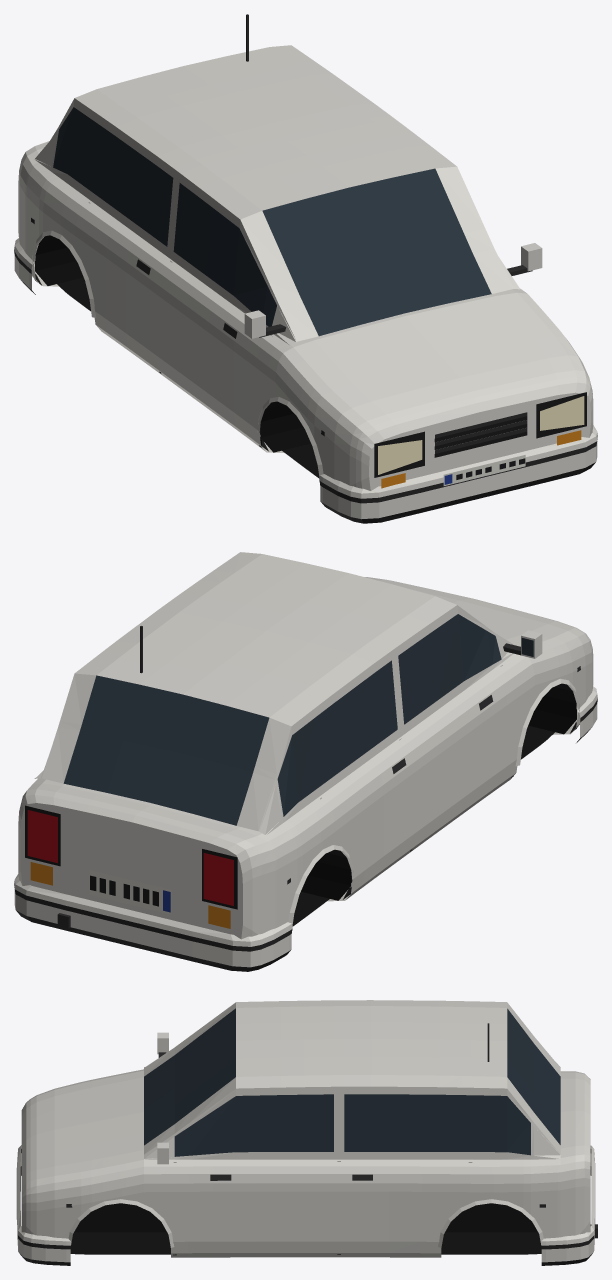
Rendered from vega-alba.glb.
3 views of the same model, one above another, from view 1: azimuth 30°, elevation 25°; view 2: azimuth 150°, elevation 25°; view 3: azimuth 270°, elevation 25° (orthographic). The views are drawn at different scales.
Visible parts, largest first — view 1: LOD0, door_FR, door_RR; view 2: LOD0, door_FR, door_RR; view 3: LOD0, door_FL, door_RL.
Part boxes in pixels (x1,y1,x2,y2): LOD0: (14, 14, 597, 523); door_FR: (158, 173, 277, 443); door_RR: (75, 114, 173, 368); LOD0: (14, 552, 597, 971); door_FR: (397, 605, 515, 846); door_RR: (314, 652, 413, 892); LOD0: (16, 1000, 597, 1265); door_FL: (174, 1086, 337, 1253); door_RL: (341, 1086, 470, 1253).
Size of what is drawn, in the model's own units: 1.84 by 1.58 by 3.92.
